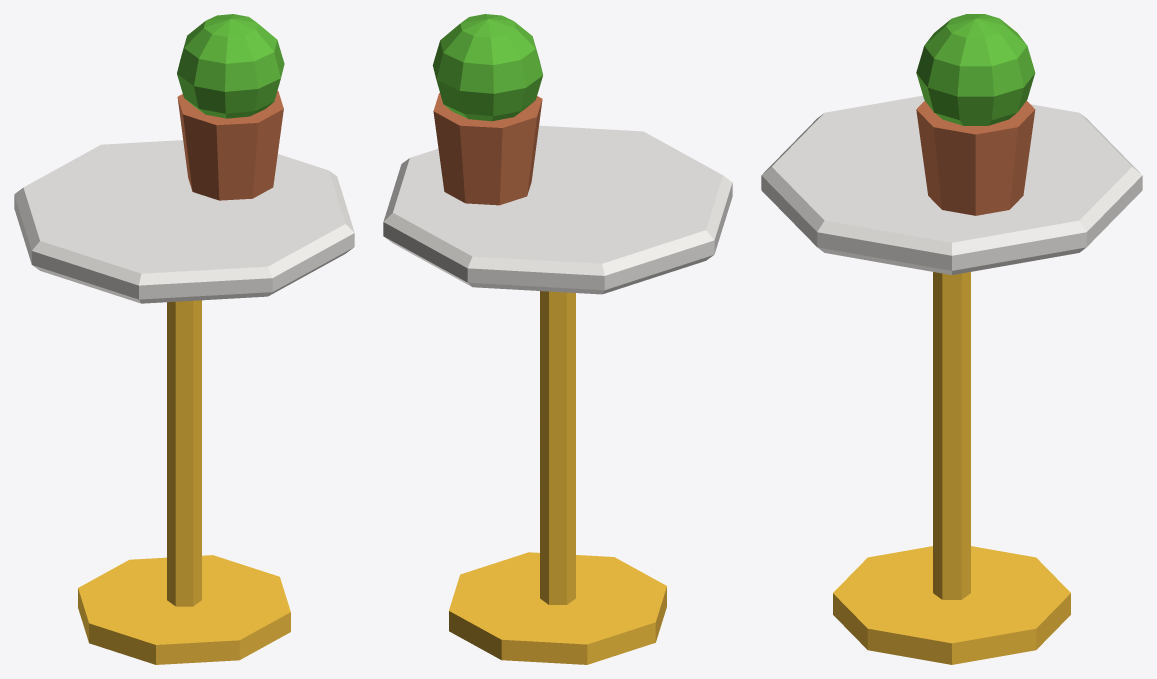
File: SideTable.fbx
The picture shows the model from 3 angles, left to right: view 1: azimuth 30°, elevation 25°; view 2: azimuth 150°, elevation 25°; view 3: azimuth 270°, elevation 25°; orthographic projection. The views are drawn at different scales.
Parts seen in each view (by area): view 1: SideTable; view 2: SideTable; view 3: SideTable.
Part boxes in pixels (left/top/right/bottom): SideTable: left=14, top=14, right=354, bottom=664; SideTable: left=383, top=14, right=732, bottom=664; SideTable: left=761, top=14, right=1142, bottom=664.
Bounding box in the file's own units: 1.6 × 2.9 × 1.6.
Materials: 1 (1 with a texture image).
